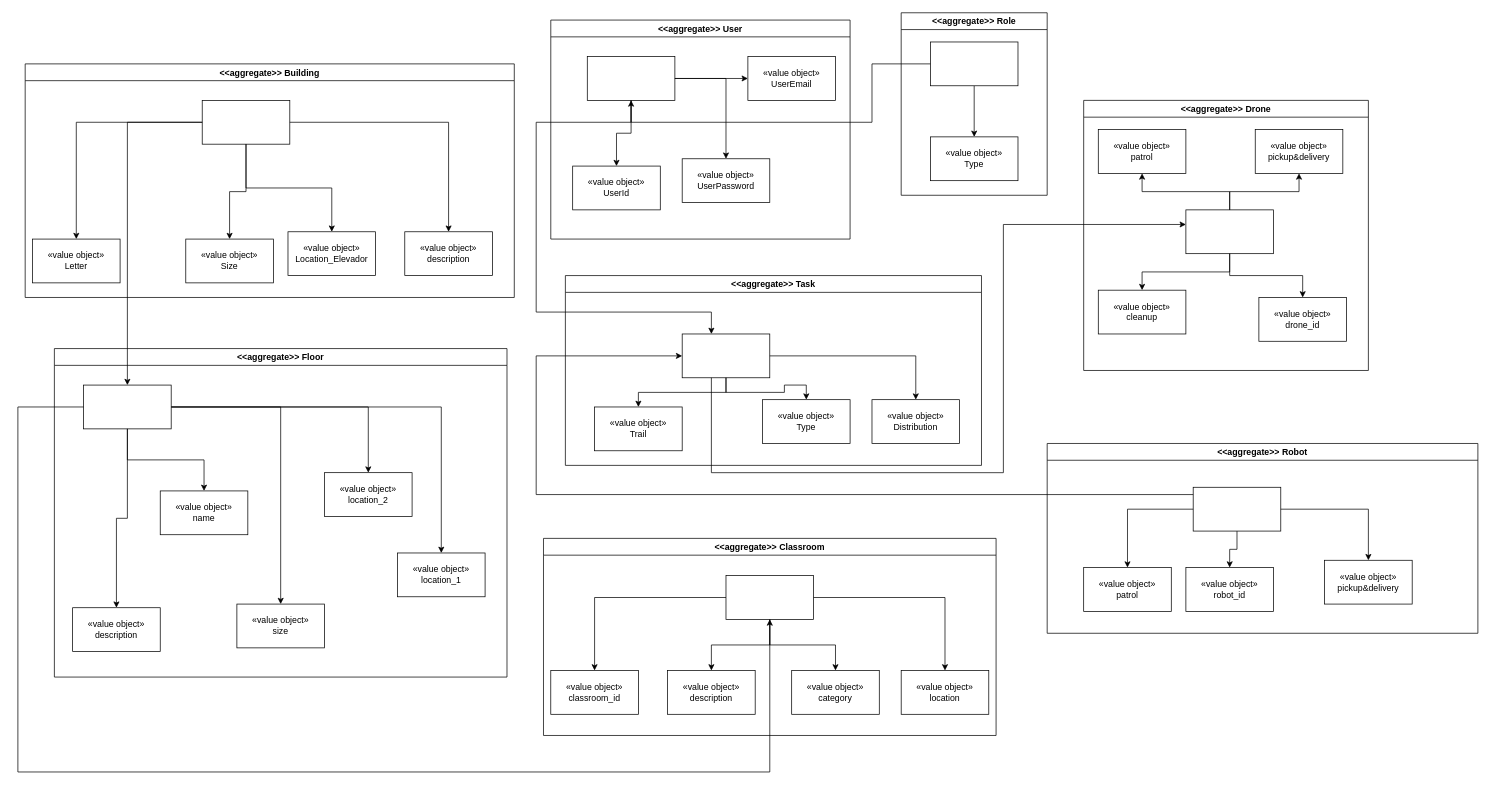
Some shapes in this 1491 by 791 pixel diagram are drawn without their labels. Each missing label, with the centre of its shape:
"«entity» Building" belongs at [245,122].
"«entity» Classroom" belongs at [769,597].
"«entity» Drone" belongs at [1229,231].
"«entity» Floor" belongs at [127,406].
"«entity» Robot" belongs at [1236,509].
"«entity» Role" belongs at [974,63].
"«entity» Task" belongs at [725,355].
"«entity» User" belongs at [631,78].
